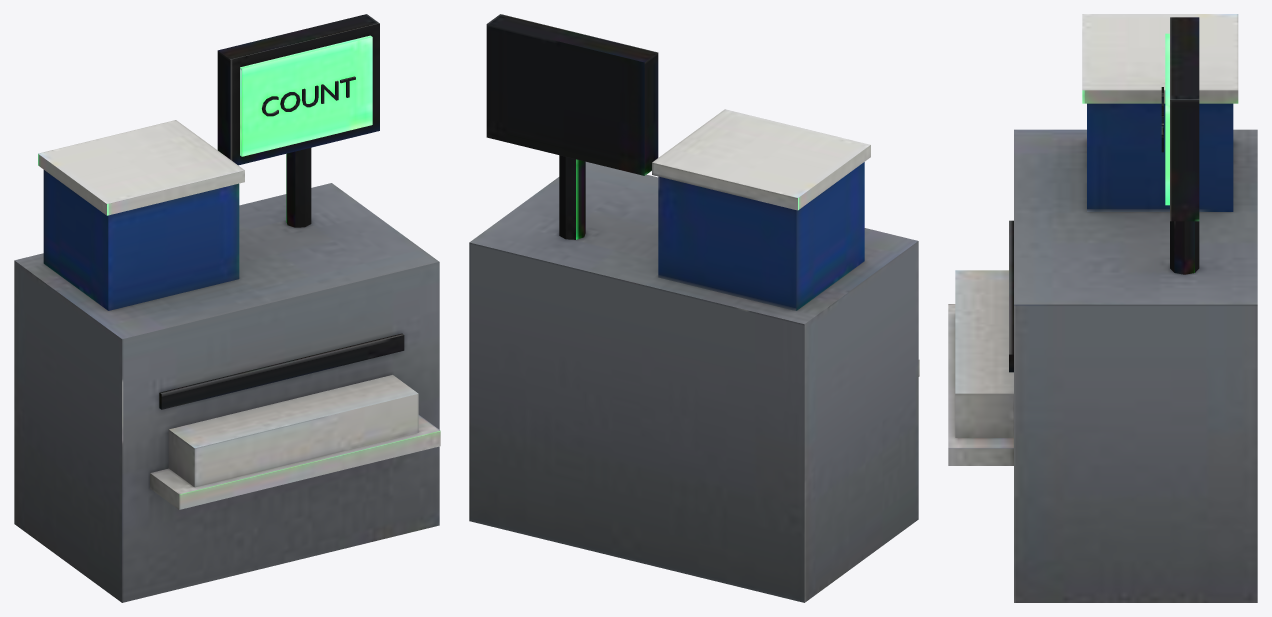
File: maquina_recuento.glb
3 renders of one model, left to right at view 1: azimuth 30°, elevation 25°; view 2: azimuth 150°, elevation 25°; view 3: azimuth 270°, elevation 25°, orthographic. The views are drawn at different scales.
Parts seen in each view (by area): view 1: maquina_recuento; view 2: maquina_recuento; view 3: maquina_recuento.
Part boxes in pixels (<box>): maquina_recuento: <box>14,14,440,602</box>; maquina_recuento: <box>469,14,919,602</box>; maquina_recuento: <box>948,14,1257,602</box>.
Bounding box in the file's own units: 1.75 × 2.3 × 1.27.
1 material, 1 textured.
